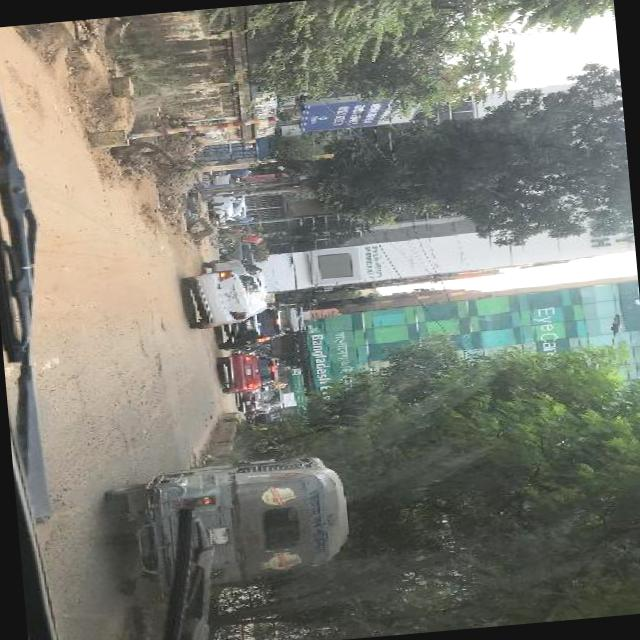car: (182, 268, 260, 324), (220, 351, 278, 393), (214, 316, 286, 349), (239, 386, 274, 406)
motorcycle: (100, 450, 358, 599), (210, 219, 264, 247), (200, 167, 252, 180), (256, 404, 283, 416)
